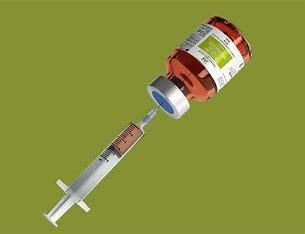Syringe: (34, 105, 158, 229), (143, 11, 258, 121)
